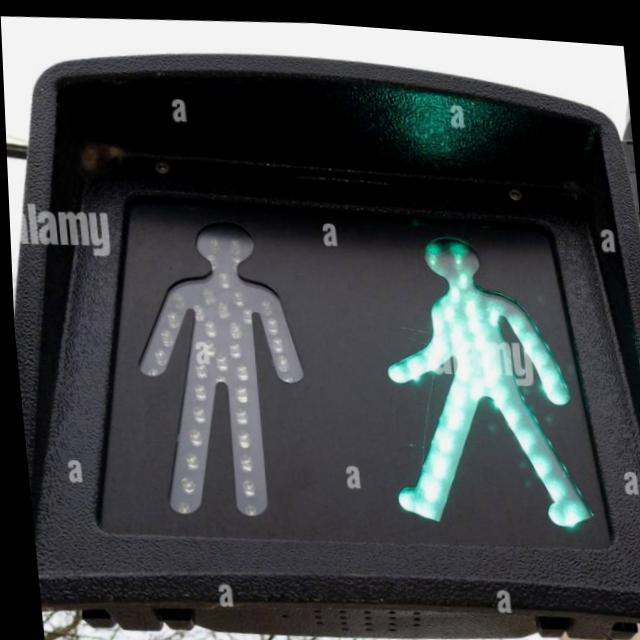green_light: (375, 196, 592, 541)
